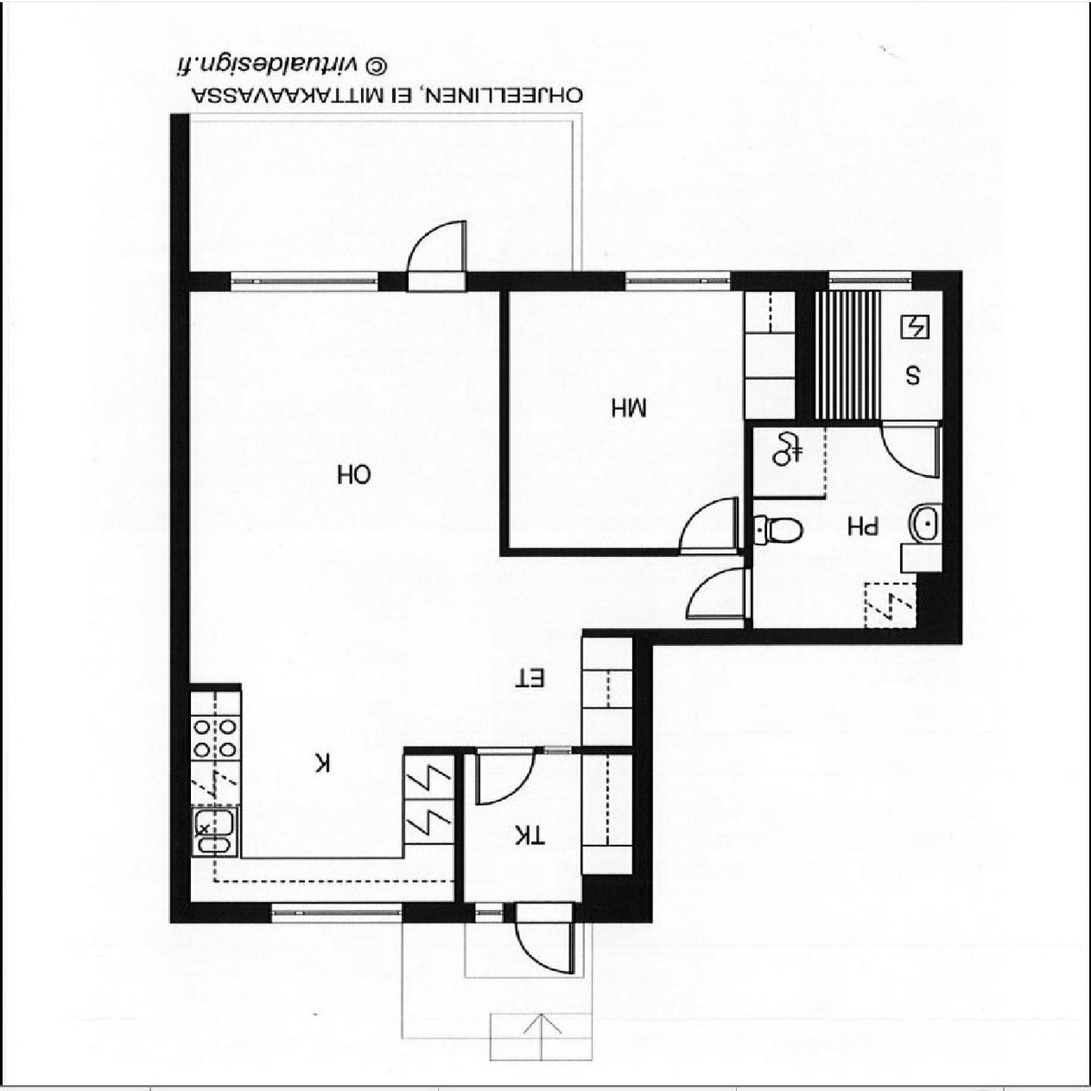wall: (170, 271, 961, 290), (170, 271, 189, 922), (170, 902, 652, 922), (632, 629, 961, 645), (944, 271, 961, 573), (633, 629, 652, 875), (580, 874, 651, 921), (917, 573, 961, 645), (170, 112, 189, 271), (796, 271, 815, 426), (500, 271, 509, 556), (745, 419, 753, 645), (499, 548, 752, 555), (454, 747, 651, 755), (454, 747, 463, 922), (745, 419, 961, 426), (170, 683, 241, 690), (403, 747, 454, 755), (580, 629, 632, 636)
